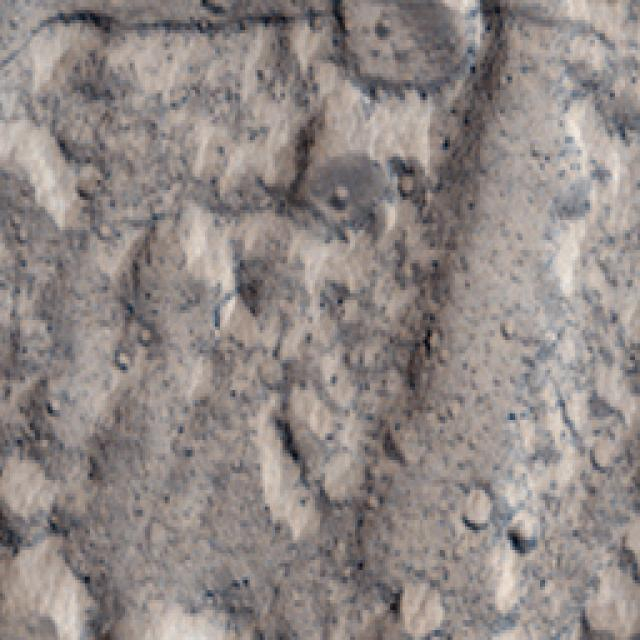Crater: (0, 443, 102, 639)
